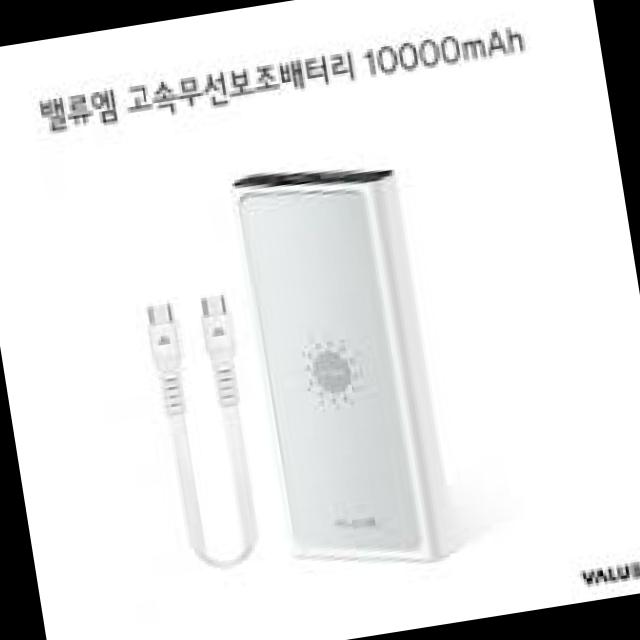power_bank: (231, 148, 468, 588)
